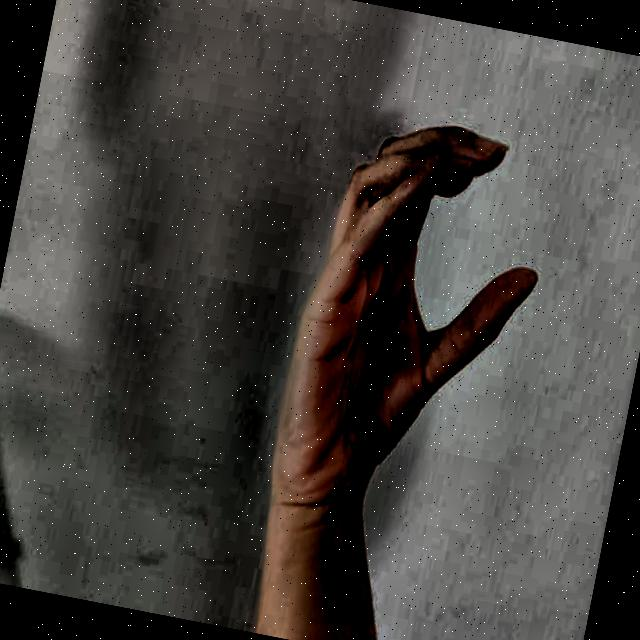A: (239, 82, 582, 590)
